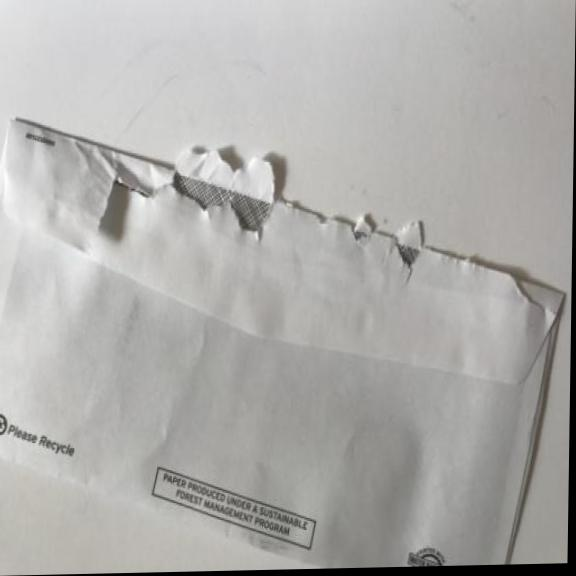Kertas: (0, 99, 574, 576)
